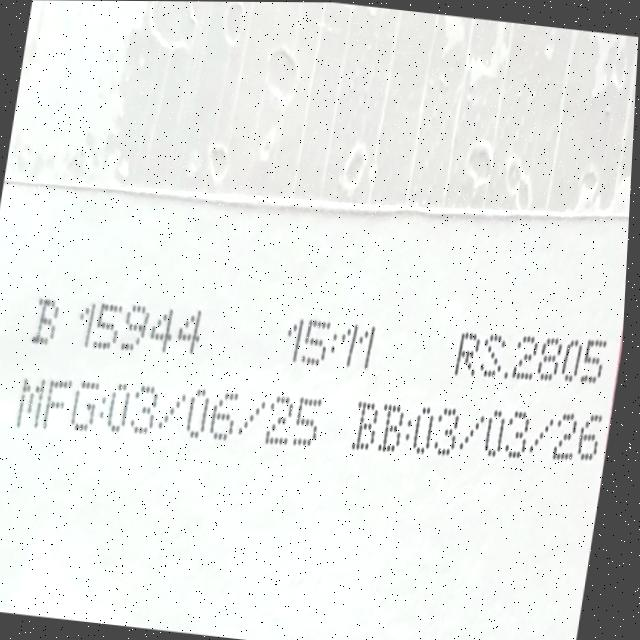BB: (345, 386, 613, 483), (23, 268, 210, 366)
MFG: (10, 368, 330, 463)
RS: (443, 306, 617, 410)
TimeStamp: (279, 306, 388, 386)
